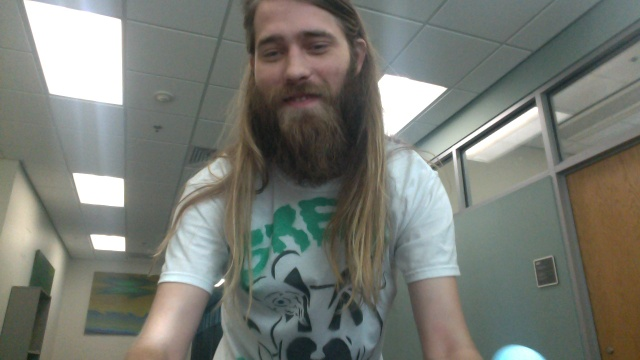wand: (491, 345, 545, 360)
